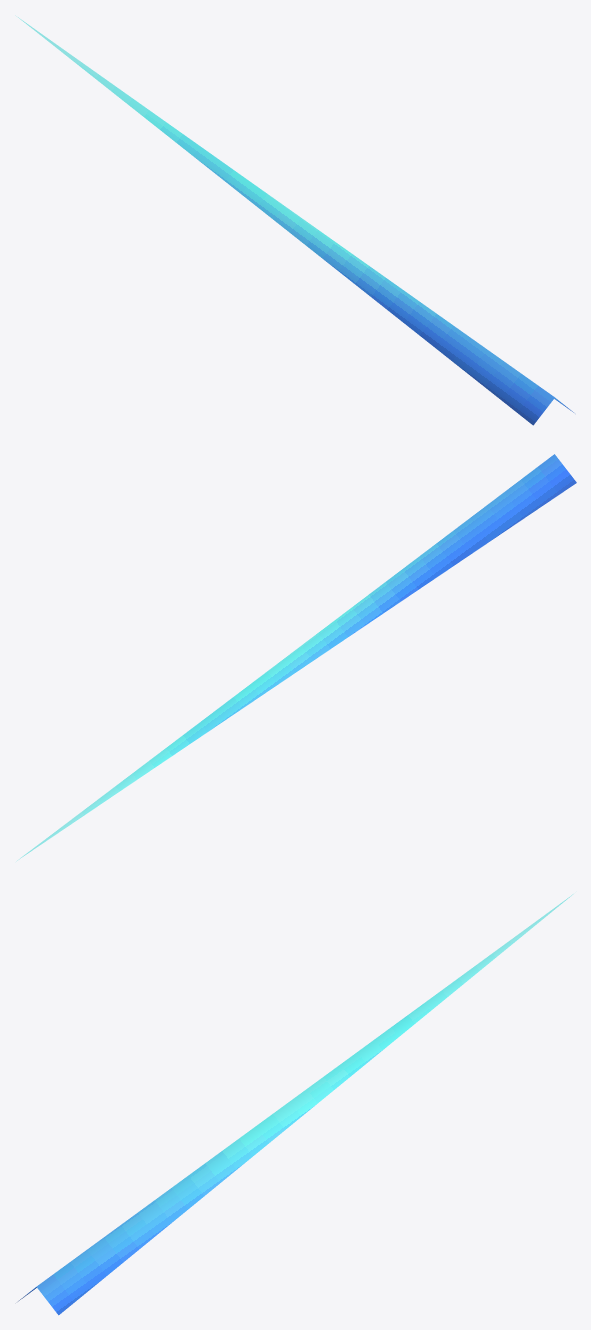
The picture shows the model from 3 angles, top to bottom: view 1: azimuth 30°, elevation 25°; view 2: azimuth 150°, elevation 25°; view 3: azimuth 330°, elevation 25°; orthographic projection. The views are drawn at different scales.
Visible parts, largest first — view 1: 17cd9e47; view 2: 17cd9e47; view 3: 17cd9e47.
Boxes of the visible parts, box(x1,y1,x2,y2) form: 17cd9e47: box(15, 15, 573, 425); 17cd9e47: box(16, 454, 576, 861); 17cd9e47: box(18, 894, 573, 1315).
Bounding box in the file's own units: 0.7071 × 0.3535 × 15.
1 material, 1 textured.
